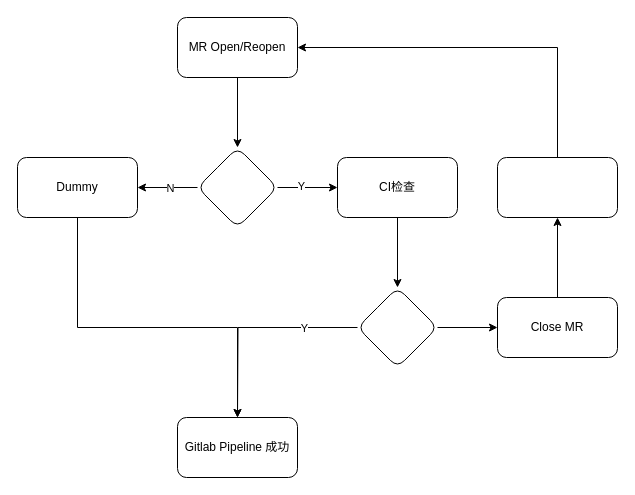
The diagram is 635 pixels wide and 495 high, and some of its shapes have lost their labels. The shapes that lost their labels are listed below. From the top down, each one's box as (x1, y1, x2, y2) in pixels, then its label:
(196, 146, 278, 228): 特定分支
(496, 156, 618, 218): 修改
(356, 286, 438, 368): CI成功
